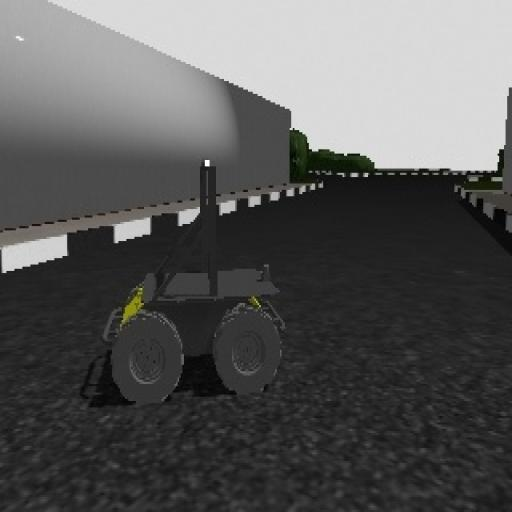huskya200: (72, 137, 298, 418)
